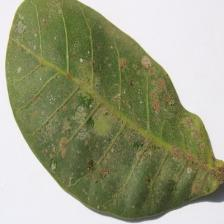red rust: (7, 0, 223, 217)
